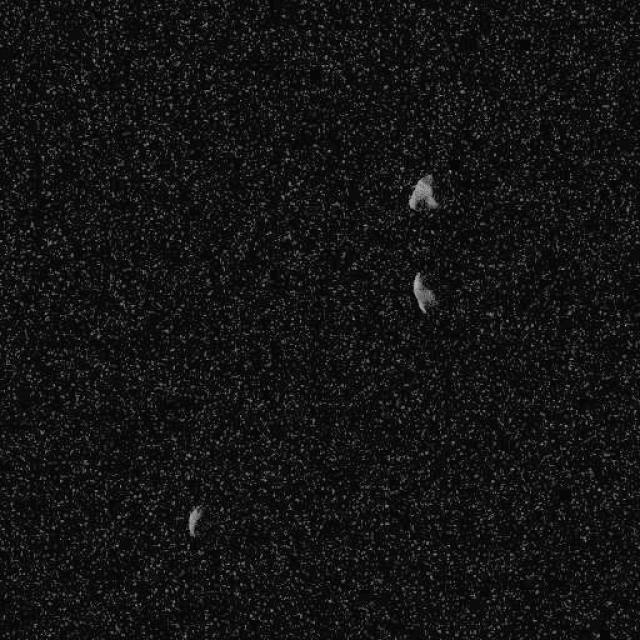D2: (406, 172, 439, 212), (412, 270, 438, 314), (186, 503, 204, 538)
